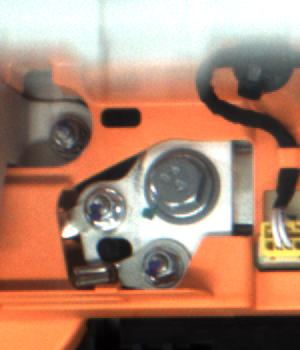nut_b: (145, 136, 227, 233)
screw_s: (135, 246, 179, 289), (84, 190, 118, 228), (47, 117, 79, 155)
